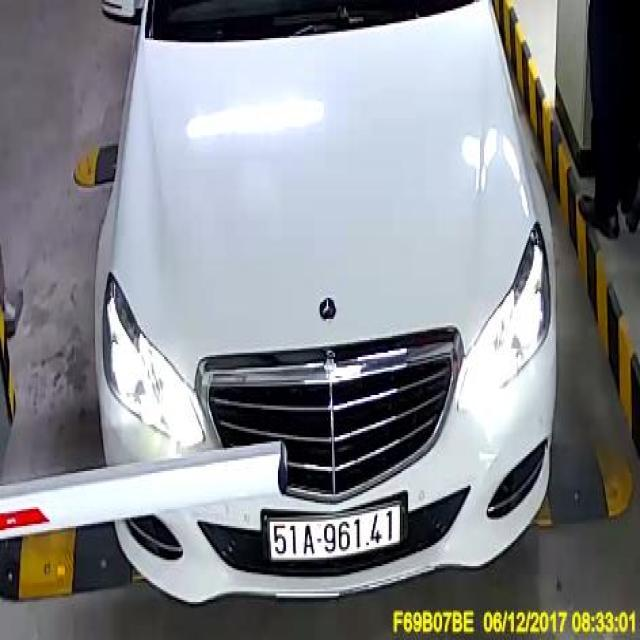bien_so_oto: (270, 504, 400, 560)
